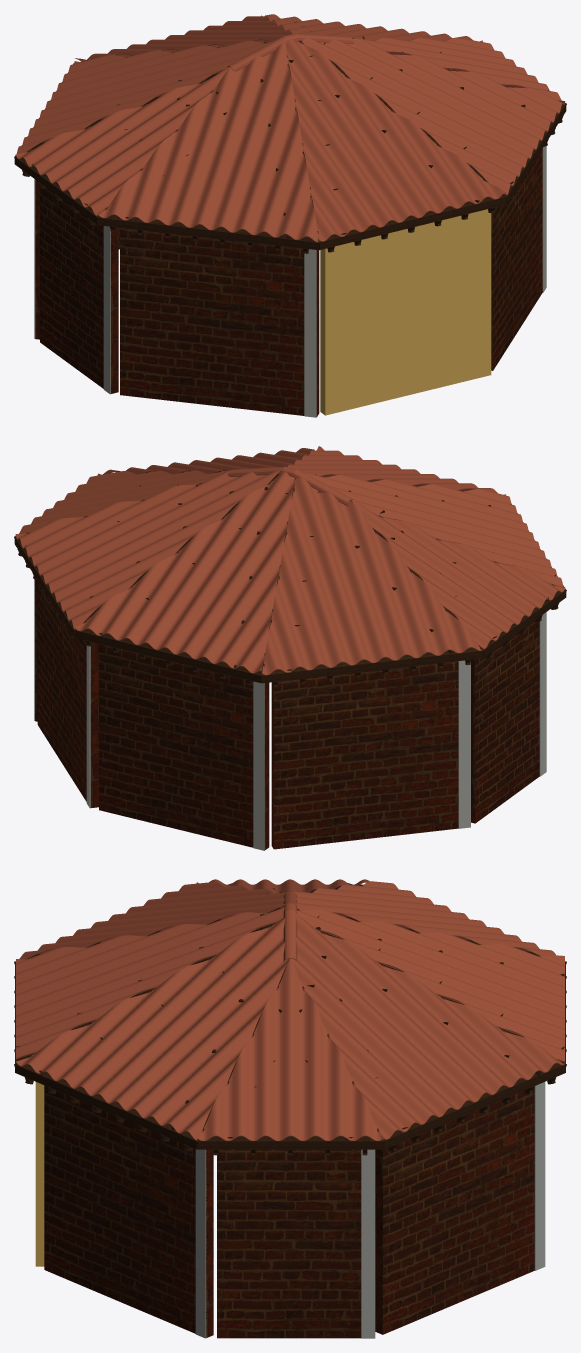
File: building.glb
The picture shows the model from 3 angles, top to bottom: view 1: azimuth 30°, elevation 25°; view 2: azimuth 150°, elevation 25°; view 3: azimuth 270°, elevation 25°; orthographic projection. The views are drawn at different scales.
Parts seen in each view (by area): view 1: house:0/edge0/z0/house:0/edge0/z0/wall_0_0, house:0/edge1/z0/house:0/edge1/z0/wall_0_0, house:0/edge7/z0/house:0/edge7/z0/wall_0_0, house:0/edge2/z0/house:0/edge2/z0/wall_0_0, house:0/edge0/z0/house:0/edge0/z0/column_1_0, roof_assembly/cubierta/roof_fascia#0006, roof_assembly/cubierta/roof_fascia#0009, house:0/edge7/z0/house:0/edge7/z0/column_1_0, house:0/edge6/z0/house:0/edge6/z0/wall_0_0, roof_assembly/cubierta/roof_fascia#0001, house:0/edge2/z0/house:0/edge2/z0/column_1_0, roof_assembly/cubierta/roof_fascia#0012; view 2: house:0/edge6/z0/house:0/edge6/z0/wall_0_0, house:0/edge5/z0/house:0/edge5/z0/wall_0_0, house:0/edge7/z0/house:0/edge7/z0/wall_0_0, house:0/edge4/z0/house:0/edge4/z0/wall_0_0, house:0/edge6/z0/house:0/edge6/z0/column_1_0, house:0/edge5/z0/house:0/edge5/z0/column_1_0, roof_assembly/cubierta/roof_fascia#0024, roof_assembly/cubierta/roof_fascia#0021, house:0/edge7/z0/house:0/edge7/z0/column_1_0, house:0/edge4/z0/house:0/edge4/z0/column_1_0, roof_assembly/cubierta/roof_fascia#0001, roof_assembly/cubierta/roof_fascia#0018; view 3: house:0/edge2/z0/house:0/edge2/z0/wall_0_0, house:0/edge4/z0/house:0/edge4/z0/wall_0_0, house:0/edge3/z0/house:0/edge3/z0/wall_0_0, house:0/edge3/z0/house:0/edge3/z0/column_1_0, house:0/edge4/z0/house:0/edge4/z0/column_1_0, house:0/edge2/z0/house:0/edge2/z0/column_1_0, house:0/edge1/z0/house:0/edge1/z0/wall_0_0, roof_assembly/cubierta/roof_fascia#0015, roof_assembly/cubierta/roof_fascia#0012, roof_assembly/cubierta/roof_fascia#0018.
Boxes of the visible parts, x1,y1,x2,y2 form: house:0/edge0/z0/house:0/edge0/z0/wall_0_0: (120, 227, 319, 416); house:0/edge1/z0/house:0/edge1/z0/wall_0_0: (320, 209, 491, 415); house:0/edge7/z0/house:0/edge7/z0/wall_0_0: (40, 188, 118, 393); house:0/edge2/z0/house:0/edge2/z0/wall_0_0: (491, 149, 542, 370); house:0/edge0/z0/house:0/edge0/z0/column_1_0: (304, 249, 316, 417); roof_assembly/cubierta/roof_fascia#0006: (98, 217, 318, 250); roof_assembly/cubierta/roof_fascia#0009: (319, 197, 506, 249); house:0/edge7/z0/house:0/edge7/z0/column_1_0: (103, 226, 110, 394); house:0/edge6/z0/house:0/edge6/z0/wall_0_0: (35, 179, 39, 339); roof_assembly/cubierta/roof_fascia#0001: (14, 157, 98, 224); house:0/edge2/z0/house:0/edge2/z0/column_1_0: (542, 146, 546, 292); roof_assembly/cubierta/roof_fascia#0012: (506, 104, 566, 203); house:0/edge6/z0/house:0/edge6/z0/wall_0_0: (271, 661, 458, 849); house:0/edge5/z0/house:0/edge5/z0/wall_0_0: (99, 644, 269, 850); house:0/edge7/z0/house:0/edge7/z0/wall_0_0: (471, 621, 539, 823); house:0/edge4/z0/house:0/edge4/z0/wall_0_0: (37, 581, 98, 807); house:0/edge6/z0/house:0/edge6/z0/column_1_0: (458, 660, 470, 828); house:0/edge5/z0/house:0/edge5/z0/column_1_0: (253, 681, 264, 850); roof_assembly/cubierta/roof_fascia#0024: (262, 651, 482, 683); roof_assembly/cubierta/roof_fascia#0021: (74, 630, 261, 683); house:0/edge7/z0/house:0/edge7/z0/column_1_0: (539, 612, 546, 776); house:0/edge4/z0/house:0/edge4/z0/column_1_0: (86, 646, 90, 808); roof_assembly/cubierta/roof_fascia#0001: (482, 590, 566, 657); roof_assembly/cubierta/roof_fascia#0018: (14, 537, 74, 636); house:0/edge2/z0/house:0/edge2/z0/wall_0_0: (44, 1085, 213, 1337); house:0/edge4/z0/house:0/edge4/z0/wall_0_0: (375, 1086, 534, 1334); house:0/edge3/z0/house:0/edge3/z0/wall_0_0: (217, 1149, 361, 1338); house:0/edge3/z0/house:0/edge3/z0/column_1_0: (361, 1149, 375, 1338); house:0/edge4/z0/house:0/edge4/z0/column_1_0: (534, 1082, 545, 1270); house:0/edge2/z0/house:0/edge2/z0/column_1_0: (195, 1149, 206, 1338); house:0/edge1/z0/house:0/edge1/z0/wall_0_0: (35, 1082, 44, 1266); roof_assembly/cubierta/roof_fascia#0015: (197, 1140, 383, 1149); roof_assembly/cubierta/roof_fascia#0012: (15, 1064, 197, 1149); roof_assembly/cubierta/roof_fascia#0018: (383, 1065, 565, 1149).
Bounding box in the file's own units: 10.77 × 6.08 × 9.77.
5 materials, 2 textured.
